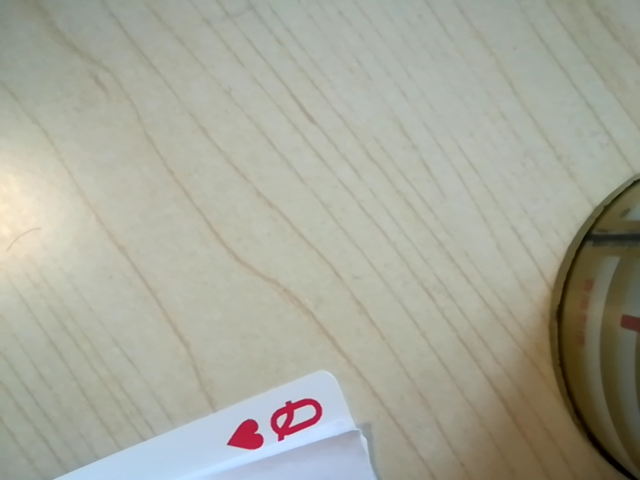hx q: (219, 394, 335, 461)
